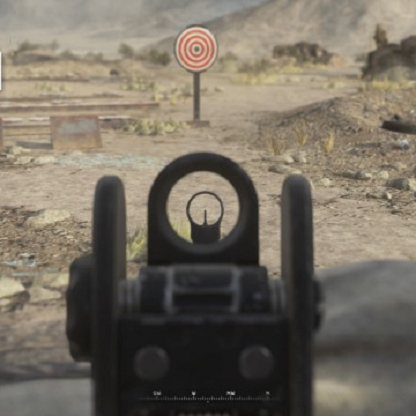target: (172, 25, 218, 74)
